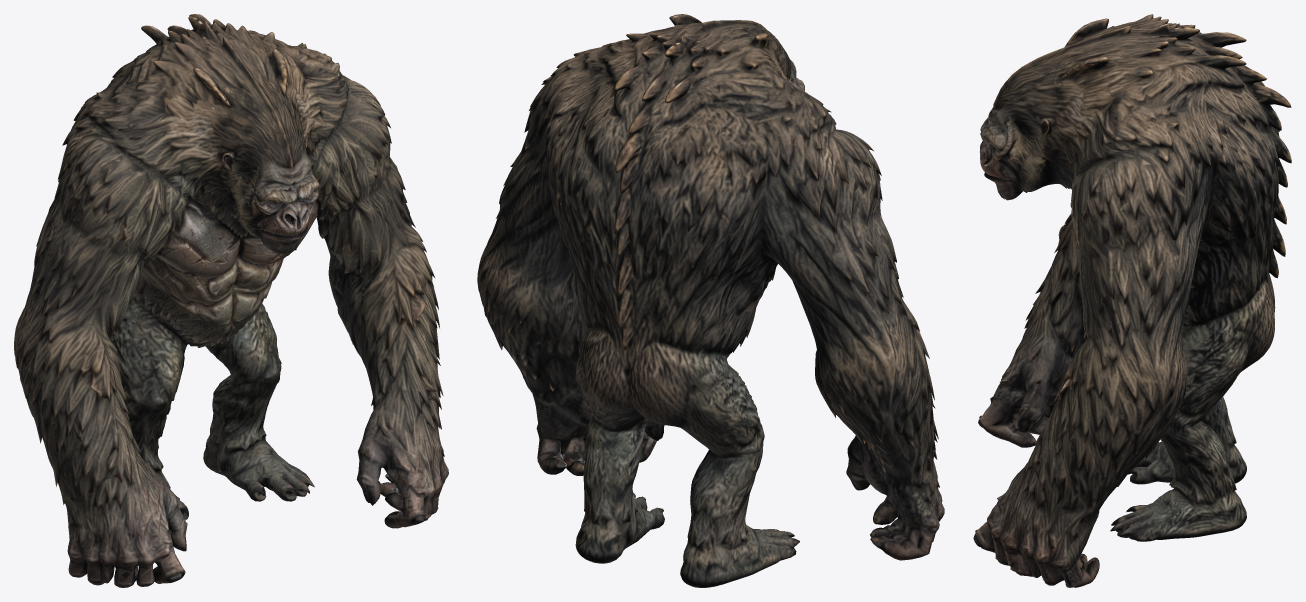
The model's file is Giant Gorilla.fbx.
3 views of the same model, side by side, from view 1: azimuth 30°, elevation 25°; view 2: azimuth 150°, elevation 25°; view 3: azimuth 270°, elevation 25° (orthographic). The views are drawn at different scales.
Parts seen in each view (by area): view 1: MC_Gorilla; view 2: MC_Gorilla; view 3: MC_Gorilla.
Boxes of the visible parts, box(x1,y1,x2,y2) form: MC_Gorilla: box(14, 14, 448, 587); MC_Gorilla: box(477, 14, 944, 587); MC_Gorilla: box(973, 14, 1291, 587).
Size of the model in its own units: 7291 by 8309 by 4977.
